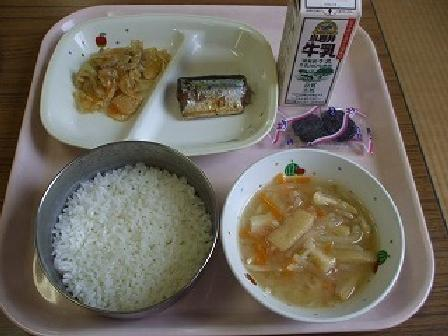Fish: (169, 66, 258, 124)
Milk: (266, 0, 365, 105)
Rice: (40, 148, 217, 314)
vegetable based cooked food: (68, 34, 168, 119)
vegetable soup: (227, 153, 395, 308)
